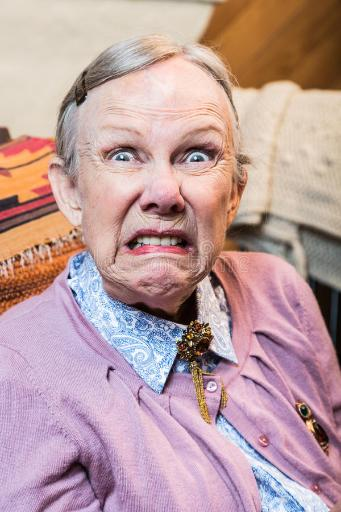left_eye: (179, 145, 216, 168)
left_lip_corner: (187, 239, 198, 253)
right_eye: (106, 147, 146, 168)
right_lip_corner: (121, 236, 134, 255)
